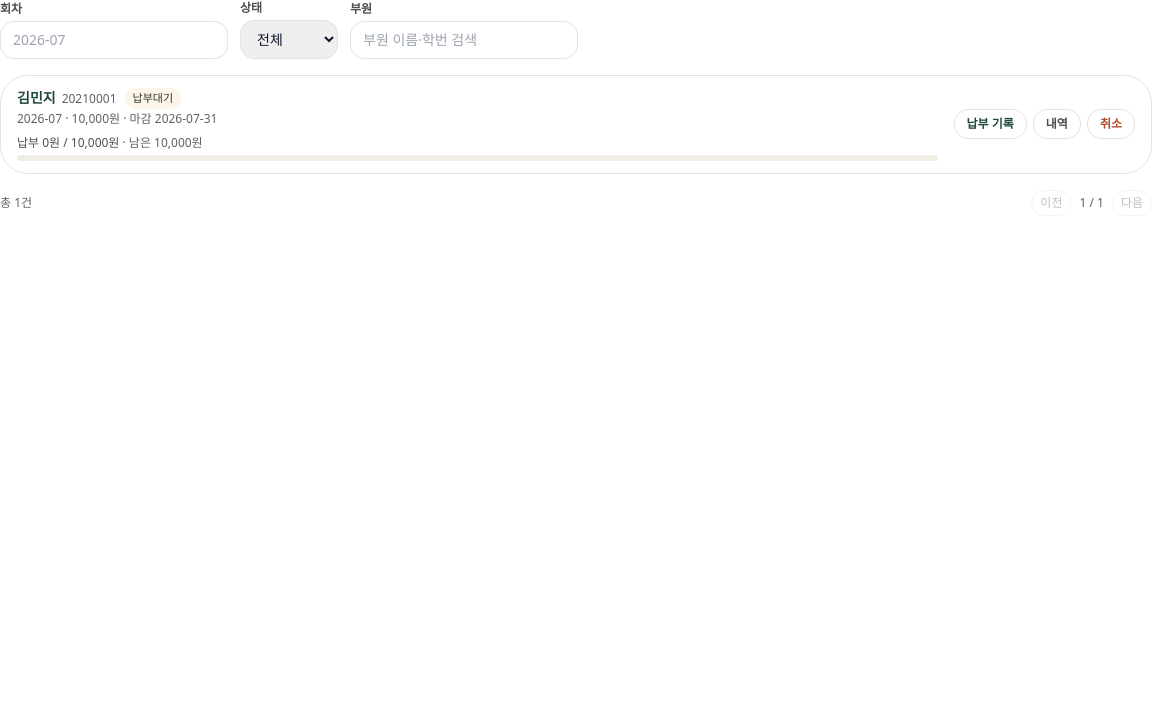
Test: BillList › 내역 버튼을 누르면 납부 내역 다이얼로그를 연다
Click the button "내역" at (1057, 124), box [1033,109,1081,139]
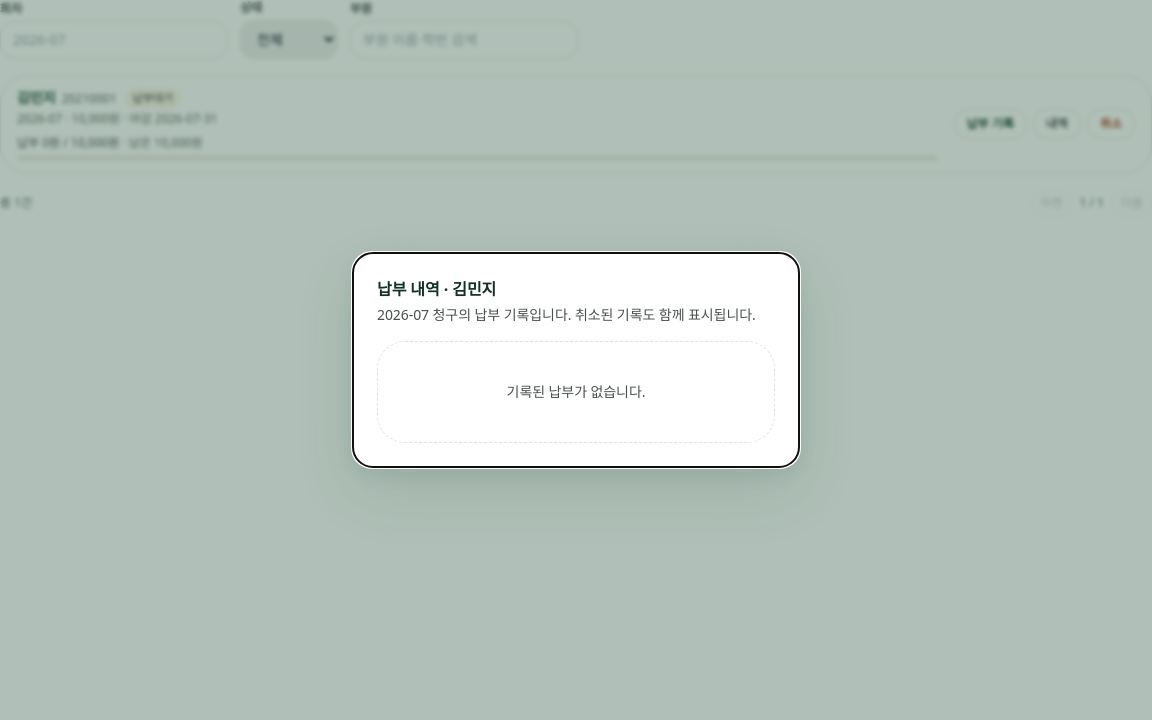
Check: the heading "납부 내역 · 김민지" is shown, box [377,278,496,300]
